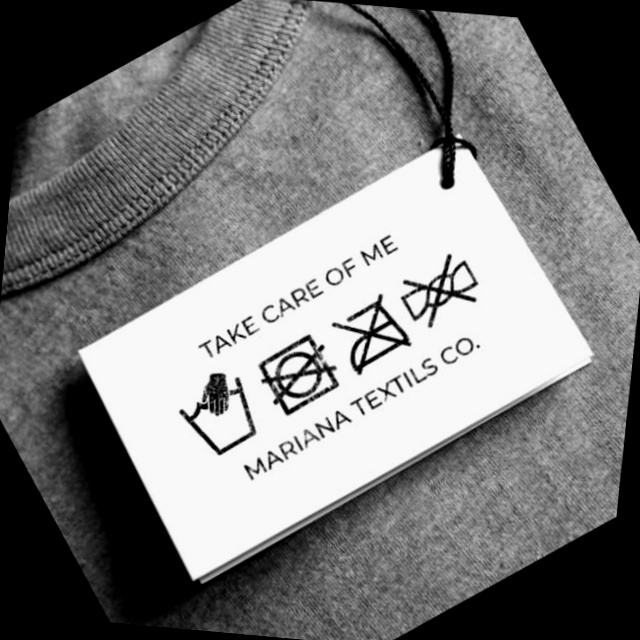DN_iron: (332, 292, 411, 377)
DN_tumble_dry: (253, 330, 339, 414)
DN_wring: (398, 248, 482, 328)
hand_wash: (174, 367, 262, 464)
